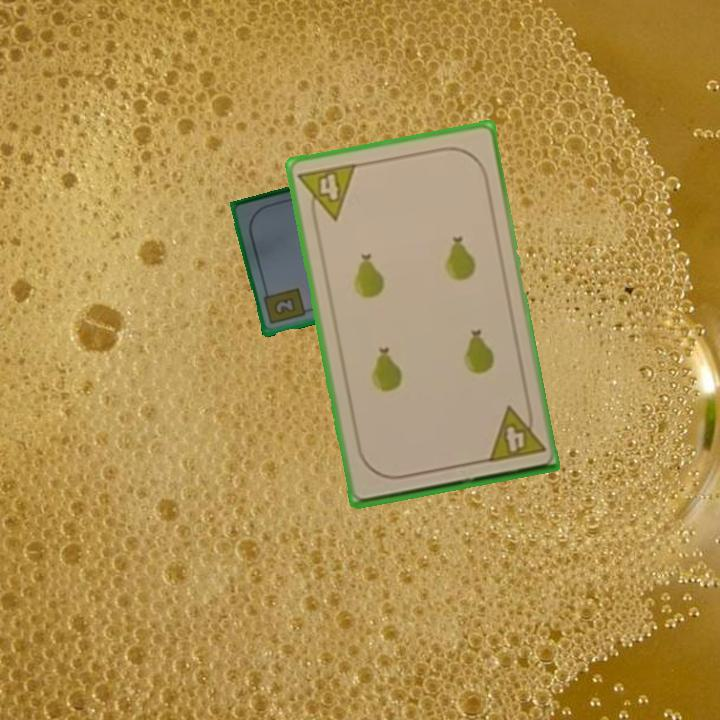2b: (260, 285, 308, 328)
4p: (294, 160, 359, 227), (483, 400, 548, 465)
